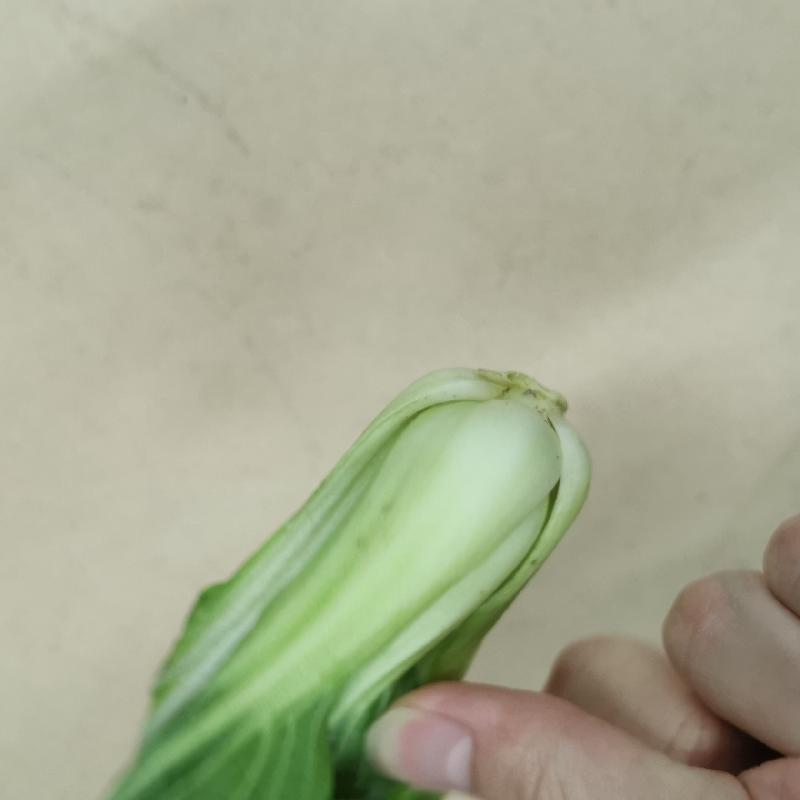green vegatable: (113, 359, 590, 800)
